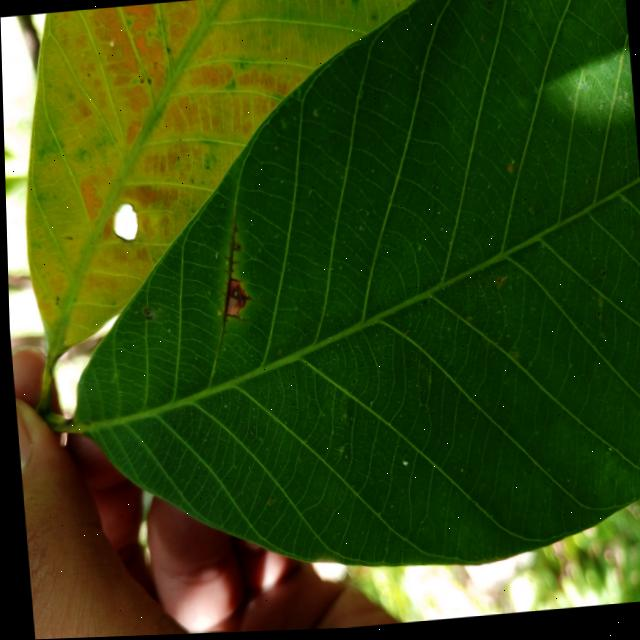Corynespora: (207, 220, 255, 350)
